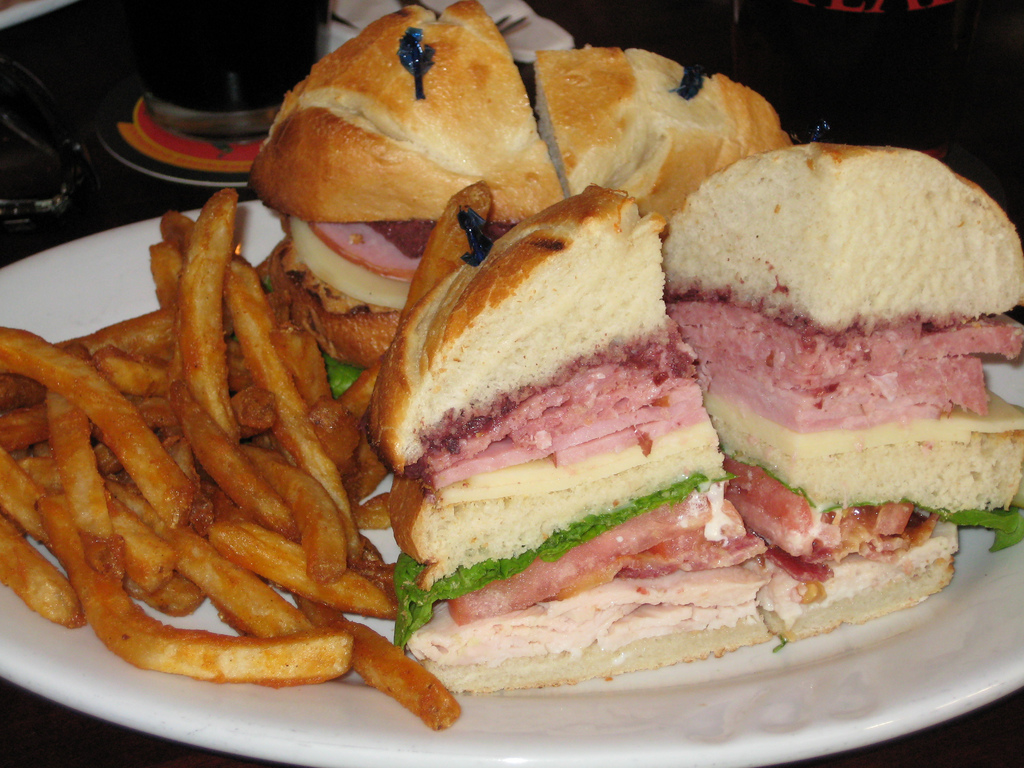slice of bread: (275, 68, 804, 181), (434, 250, 1006, 343)
